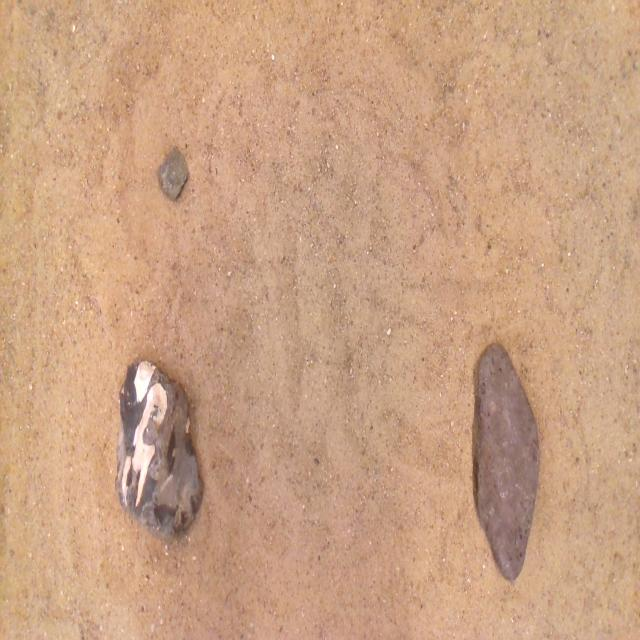rock: (473, 344, 539, 581), (116, 361, 202, 537), (158, 147, 188, 199)
